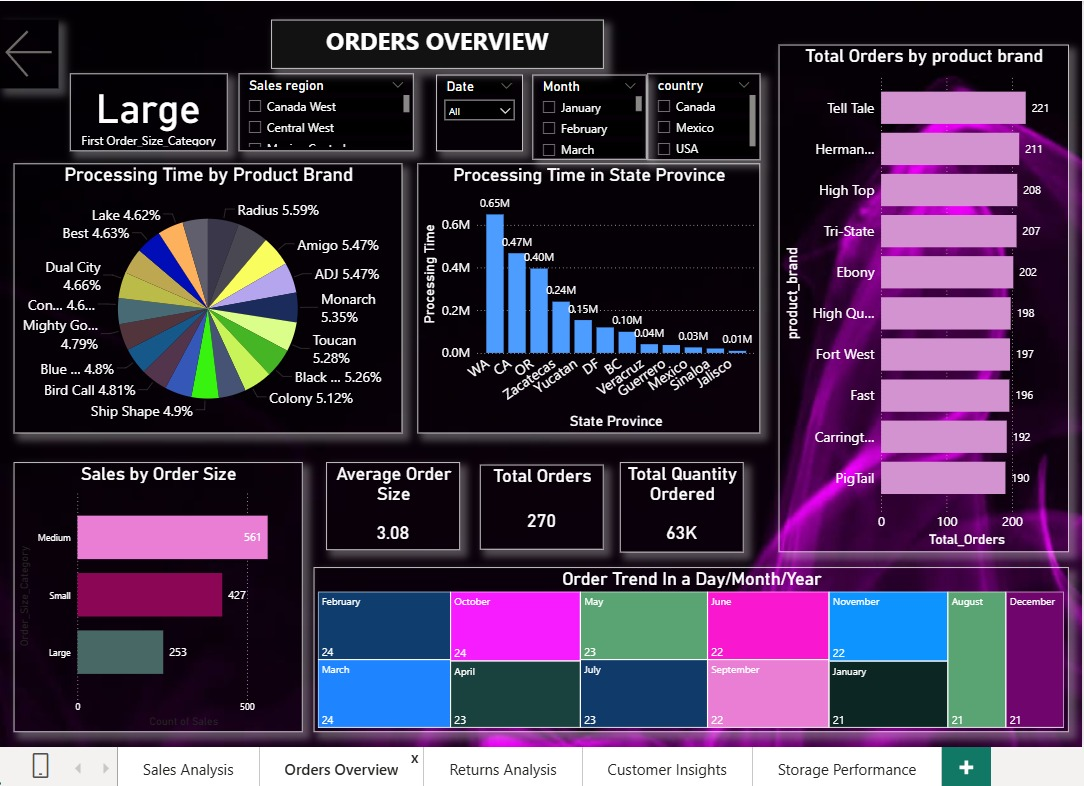

The dashboard page shown, as its layout file describes it:
{"tool":"powerbi","page":{"name":"Orders Overview","canvas":[1450,1000],"ordinal":1},"visuals":[{"type":"cardVisual","title":"Average Order Size","fields":{"Data":["transactions.Average_Order_Size"]},"box":[437.3,618.3,179.3,117.3],"z":0},{"type":"pieChart","title":"Processing Time by Product Brand","fields":{"Y":["transactions.Average_Processing_Days"],"Category":["products.product_brand"]},"box":[18.4,217.8,521.1,361.9],"z":1000},{"type":"cardVisual","title":"Total Quantity Ordered","fields":{"Data":["transactions.Total_Items_Ordered"]},"box":[831.1,618.3,165.9,120.6],"z":2000},{"type":"cardVisual","title":"Total Orders","fields":{"Data":["transactions.Total_Orders"]},"box":[643.4,621.7,165.9,113.9],"z":3000},{"type":"treemap","title":"Order Trend In a Day/Month/Year","fields":{"Group":["transactions.transaction_date.Variation.Date Hierarchy.Year","transactions.transaction_date.Variation.Date Hierarchy.Quarter","transactions.transaction_date.Variation.Date Hierarchy.Month","transactions.transaction_date.Variation.Date Hierarchy.Day"],"Values":["transactions.Total_Orders"]},"box":[420.6,759.1,1012.1,221.2],"z":4000},{"type":"columnChart","title":"Processing Time in State Province","fields":{"Category":["transactions.state_province"],"Y":["Sum(transactions.Processing_Time)"]},"box":[559.7,217.8,459.1,361.9],"z":5000},{"type":"barChart","title":"Sales by Order Size","fields":{"Category":["transactions.Order_Size_Category"],"Y":["Count(transactions.Sales)"]},"box":[18.4,618.3,387.1,361.9],"z":6000},{"type":"actionButton","box":[0,25.1,78.8,92.2],"z":7000},{"type":"barChart","title":"Total Orders by product brand","fields":{"Category":["products.product_brand"],"Y":["transactions.Total_Orders"]},"box":[1043.9,58.6,388.7,680.3],"z":8000},{"type":"card","fields":{"Values":["Min(transactions.Order_Size_Category)"]},"box":[93.8,97.2,211.1,103.9],"z":9000},{"type":"slicer","fields":{"Values":["transactions.country"]},"box":[868,97.2,150.8,115.6],"z":10000},{"type":"slicer","fields":{"Values":["transactions.Month"]},"box":[713.8,98.9,152.5,113.9],"z":11000},{"type":"slicer","fields":{"Values":["calendar.date"]},"box":[584.8,98.9,115.6,102.2],"z":12000},{"type":"slicer","fields":{"Values":["regions.sales_region"]},"box":[320,97.2,234.6,103.9],"z":13000},{"type":"textbox","box":[363.6,25.1,445.7,65.3],"z":14000}]}

Visuals, with their boxes on the page's 1450x1000 design canvas (x1, y1, x2, y2). These are canvas units, not pixel positions in the 1084x786 screenshot, which may show the page scaled, cropped or inside an application window:
"Average Order Size" cardVisual: bbox=[437, 618, 617, 736]
"Processing Time by Product Brand" pieChart: bbox=[18, 218, 540, 580]
"Total Quantity Ordered" cardVisual: bbox=[831, 618, 997, 739]
"Total Orders" cardVisual: bbox=[643, 622, 809, 736]
"Order Trend In a Day/Month/Year" treemap: bbox=[421, 759, 1433, 980]
"Processing Time in State Province" columnChart: bbox=[560, 218, 1019, 580]
"Sales by Order Size" barChart: bbox=[18, 618, 406, 980]
actionButton: bbox=[0, 25, 79, 117]
"Total Orders by product brand" barChart: bbox=[1044, 59, 1433, 739]
card - Min(transactions.Order_Size_Category): bbox=[94, 97, 305, 201]
slicer - transactions.country: bbox=[868, 97, 1019, 213]
slicer - transactions.Month: bbox=[714, 99, 866, 213]
slicer - calendar.date: bbox=[585, 99, 700, 201]
slicer - regions.sales_region: bbox=[320, 97, 555, 201]
textbox: bbox=[364, 25, 809, 90]
